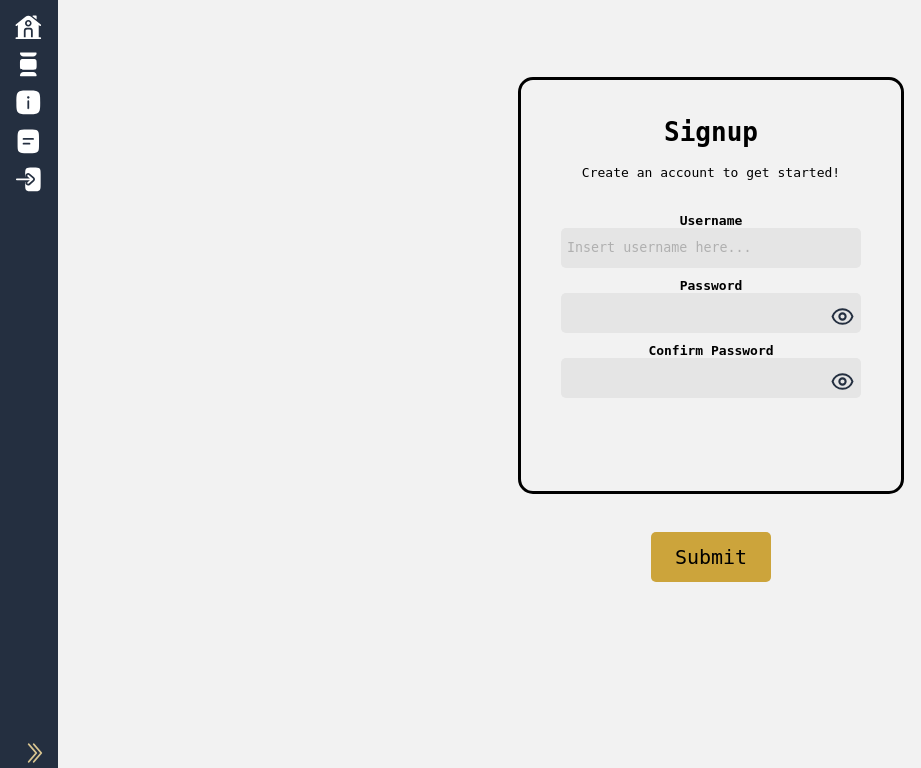
Signup Component › should show error message for invalid signup
Type "123" into the field with placeholder "Insert username here...". click: (711, 248)
box: [561,228,861,268]
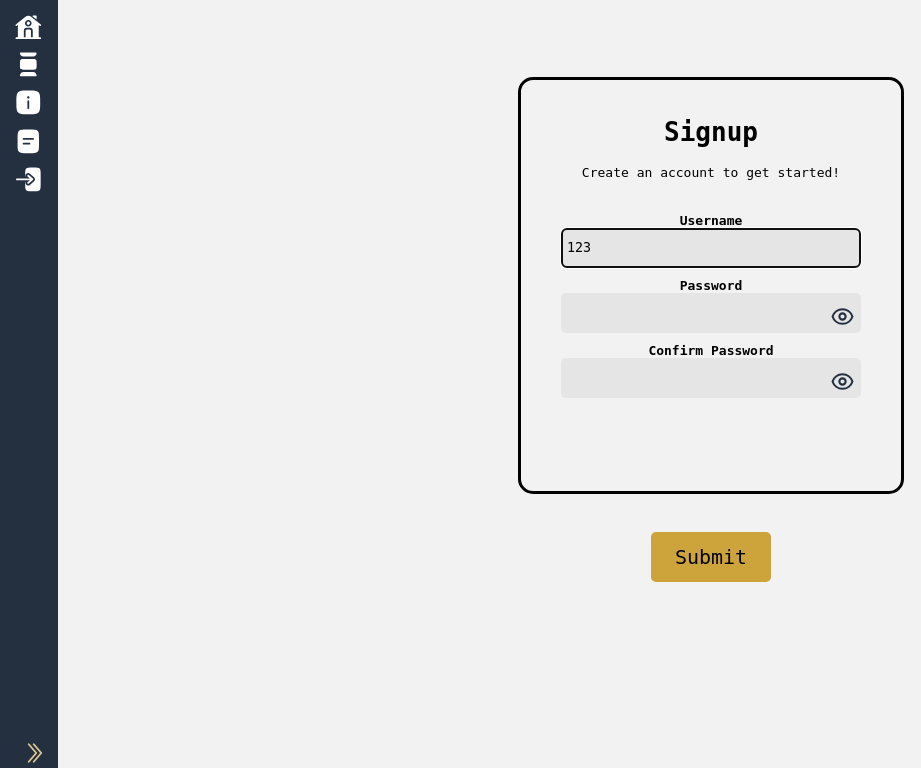
Type "password" into the 1st password field. click: (711, 313)
box: [561,293,861,333]
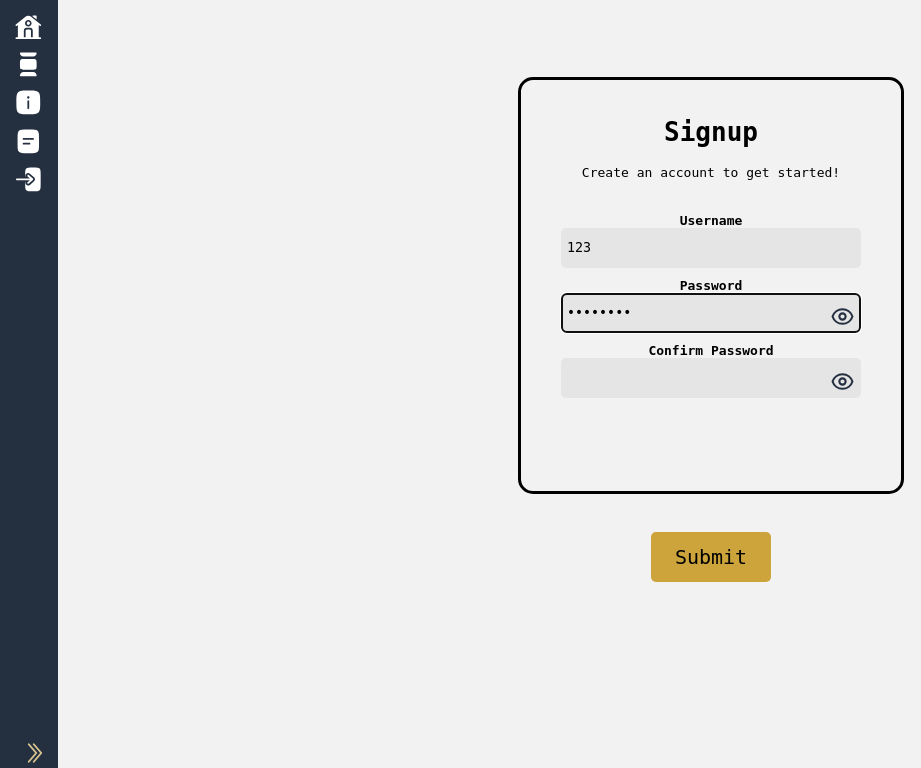
Type "password" into the 2nd password field. click: (711, 378)
box: [561,358,861,398]
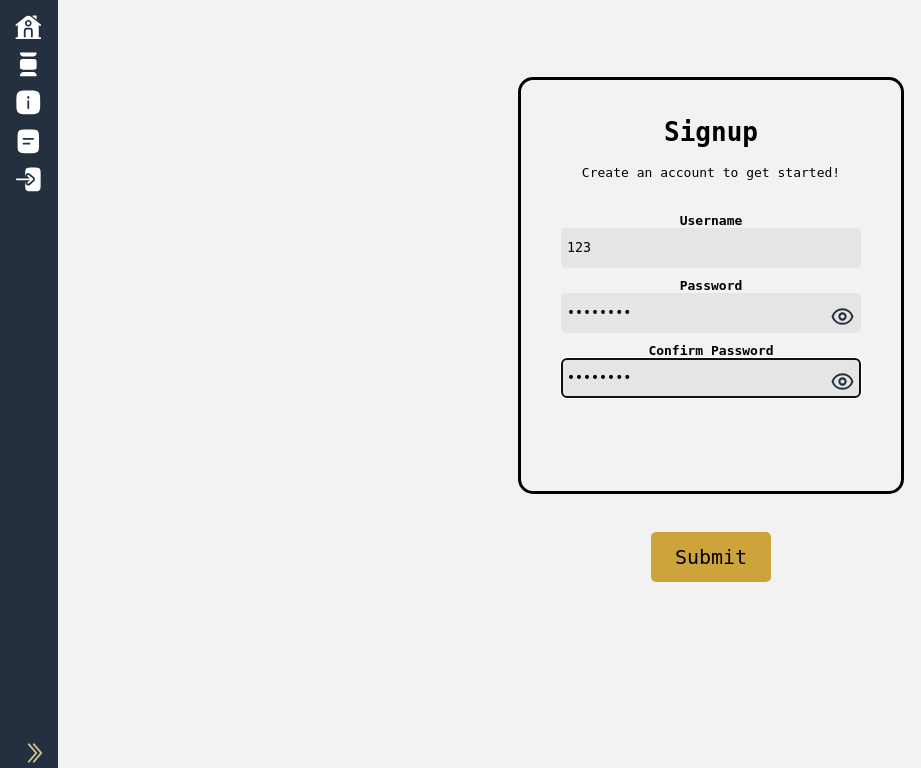
Click the button with class "submit-btn". click: (711, 557)
box: [651,532,771,582]
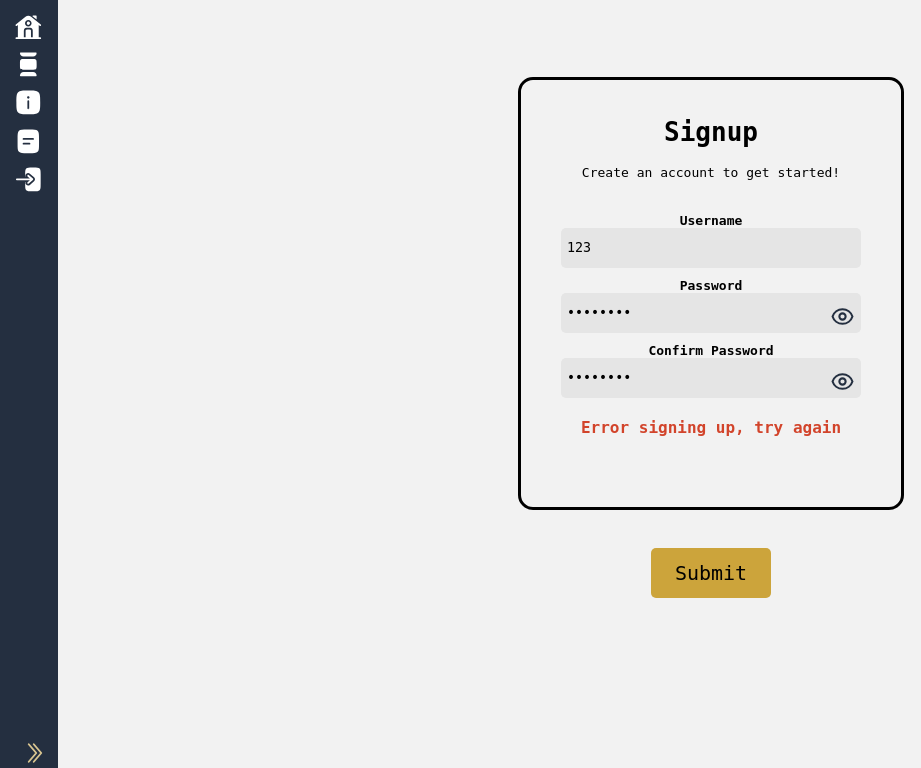
Expected: the label with class "error-message" reads "Error signing up, try again", [581,418,841,437]
